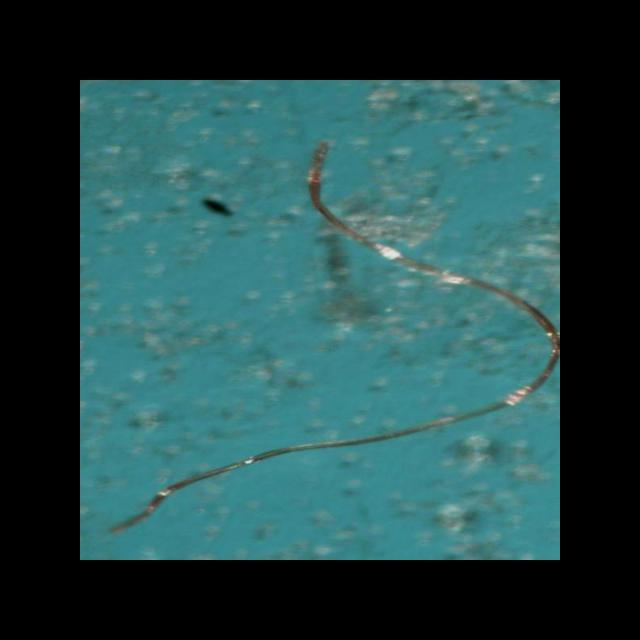Fibre: (110, 140, 560, 534)
